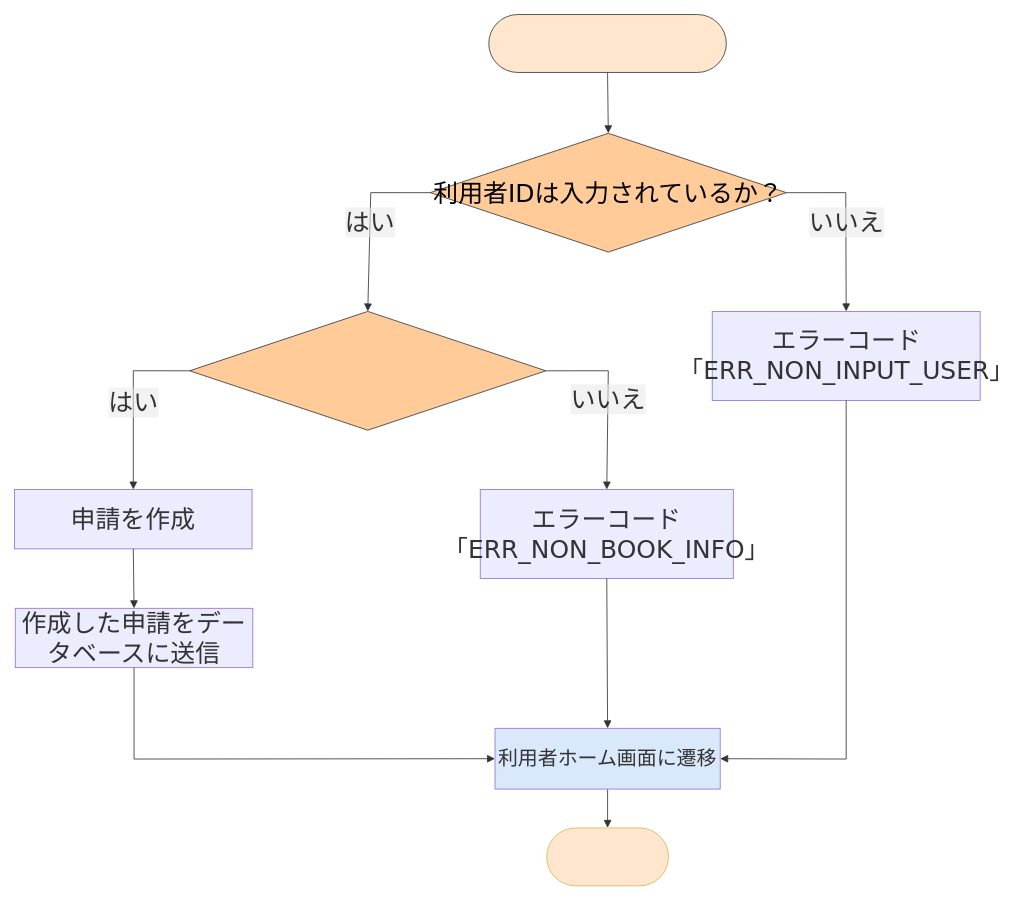
This 1028x901 diagram has some shape labels left out. Each missing label, with the centre of its shape:
申請ボタン押下時: the point at 607,43
終了: the point at 607,856
蔵書IDが少なくとも1冊以上入力されているか？: the point at 367,370
